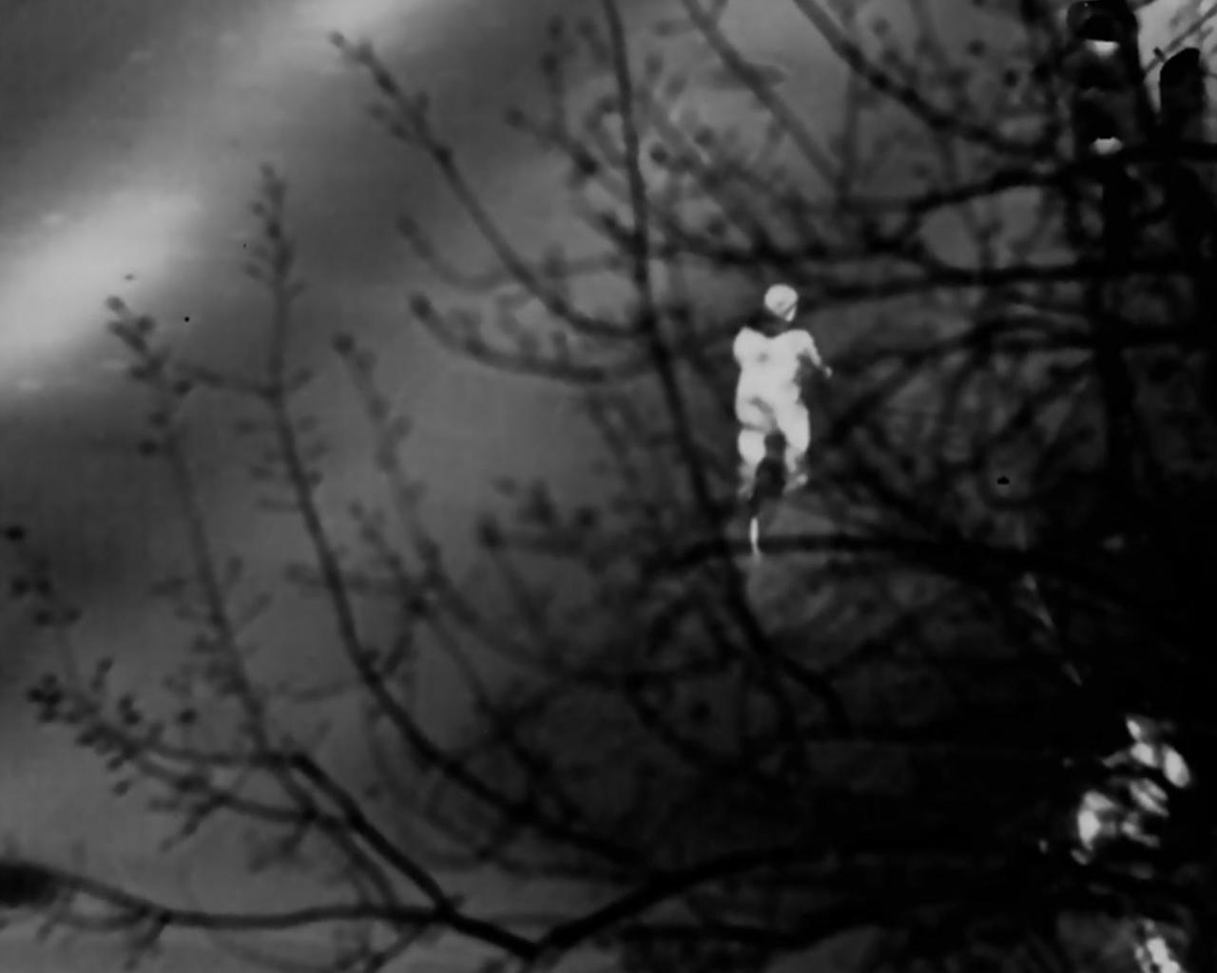person: (733, 277, 834, 508)
